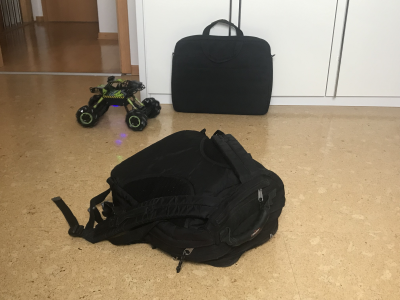remote control car: (75, 76, 162, 132)
